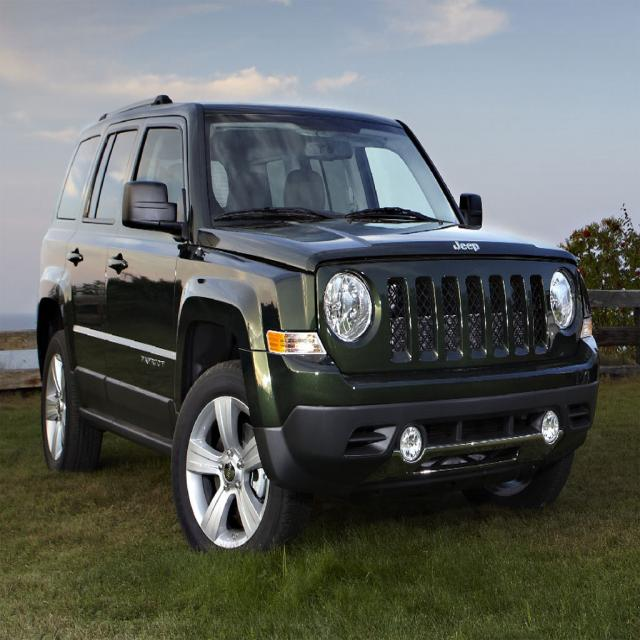car: (33, 94, 605, 559)
